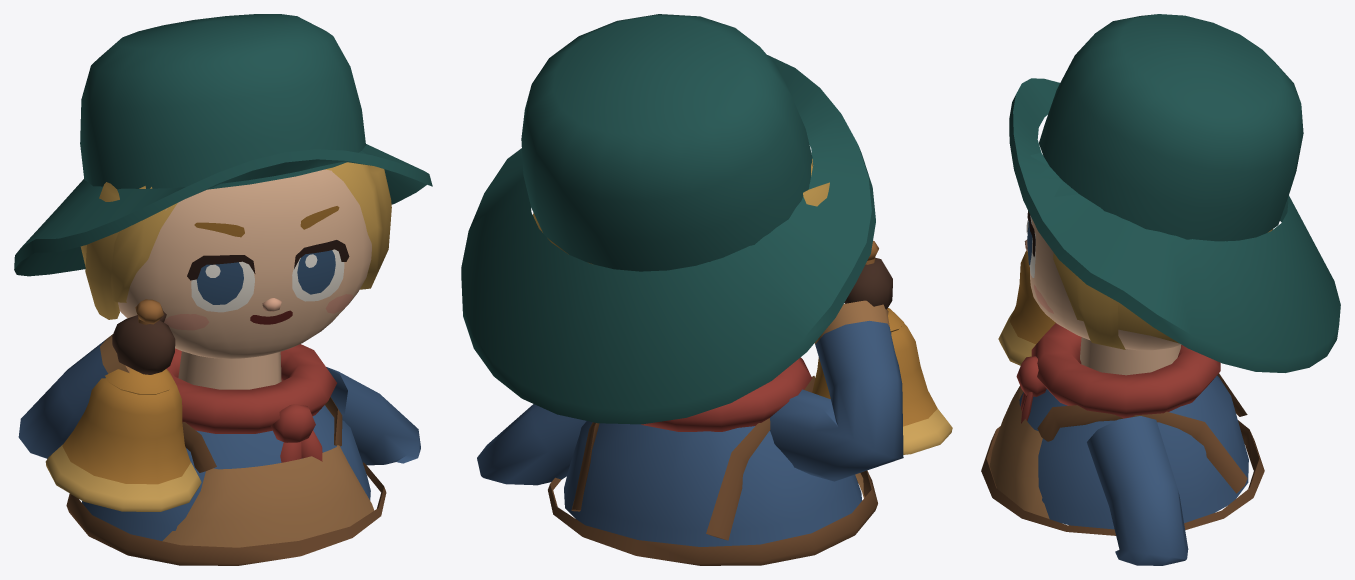
File: bellfounder_bust.glb
The picture shows the model from 3 angles, left to right: view 1: azimuth 30°, elevation 25°; view 2: azimuth 150°, elevation 25°; view 3: azimuth 270°, elevation 25°; orthographic projection. The views are drawn at different scales.
Visible parts, largest first — view 1: bellfounder_bust; view 2: bellfounder_bust; view 3: bellfounder_bust.
Boxes of the visible parts, <box> form: bellfounder_bust: <box>14,14,432,565</box>; bellfounder_bust: <box>461,14,952,565</box>; bellfounder_bust: <box>981,14,1340,565</box>.
Size of the model in its own units: 0.5635 by 0.6159 by 0.4529.
